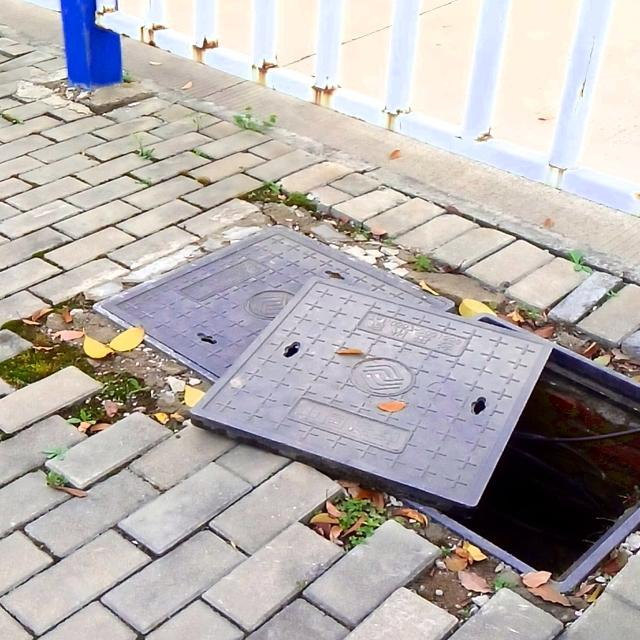uncovered: (95, 225, 640, 589)
